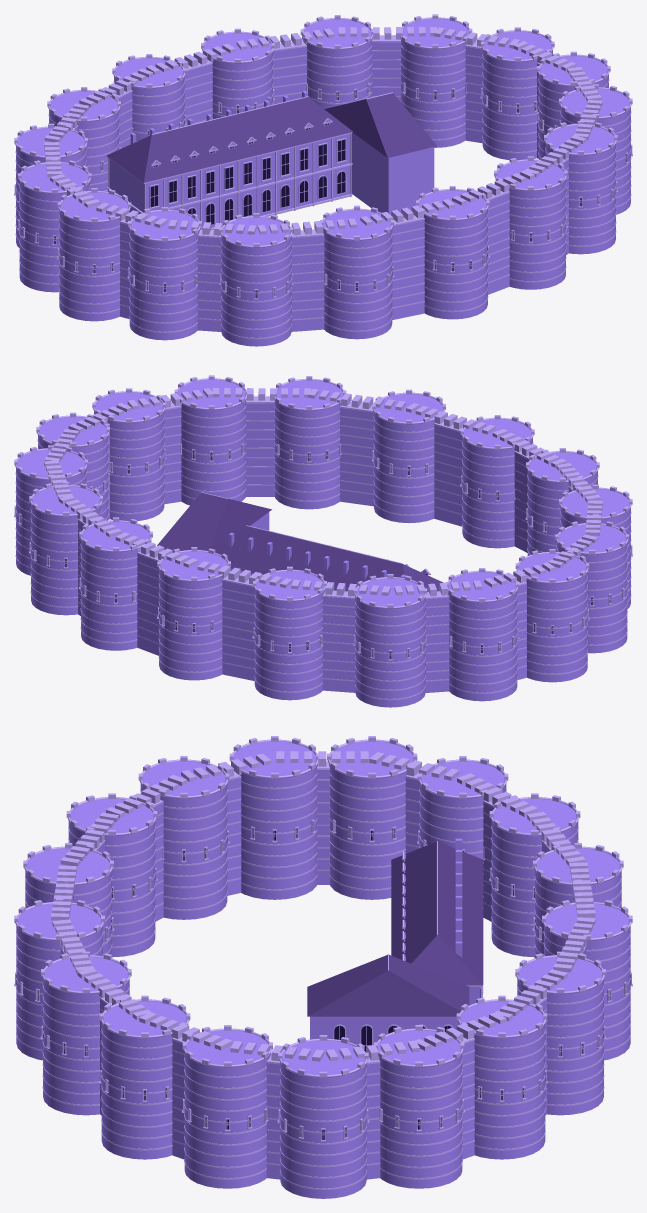
Rendered from angers_violet_light.glb.
3 views of the same model, one above another, from view 1: azimuth 30°, elevation 25°; view 2: azimuth 150°, elevation 25°; view 3: azimuth 270°, elevation 25° (orthographic). The views are drawn at different scales.
Parts seen in each view (by area): view 1: Violet stone, Lavender carved stone, Violet slate, Recessed glazing; view 2: Violet stone, Lavender carved stone, Violet slate, Recessed glazing; view 3: Violet stone, Lavender carved stone, Violet slate, Recessed glazing.
Boxes of the visible parts, x1=… form: Violet stone: x1=16, y1=19, x2=630, y2=346; Lavender carved stone: x1=14, y1=14, x2=632, y2=339; Violet slate: x1=106, y1=93, x2=436, y2=182; Recessed glazing: x1=37, y1=89, x2=626, y2=298; Violet stone: x1=16, y1=380, x2=630, y2=707; Lavender carved stone: x1=14, y1=375, x2=632, y2=700; Violet slate: x1=157, y1=493, x2=443, y2=591; Recessed glazing: x1=20, y1=450, x2=609, y2=659; Violet stone: x1=16, y1=741, x2=630, y2=1198; Lavender carved stone: x1=14, y1=736, x2=632, y2=1189; Violet slate: x1=307, y1=842, x2=483, y2=1016; Recessed glazing: x1=16, y1=828, x2=630, y2=1139.
Bounding box in the file's own units: 172 × 30 × 133.
